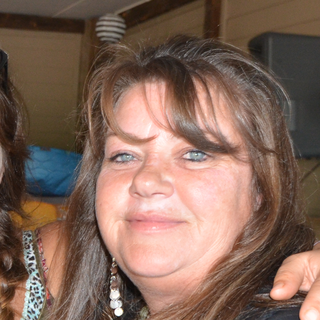eye: (175, 143, 219, 172), (106, 147, 143, 166)
